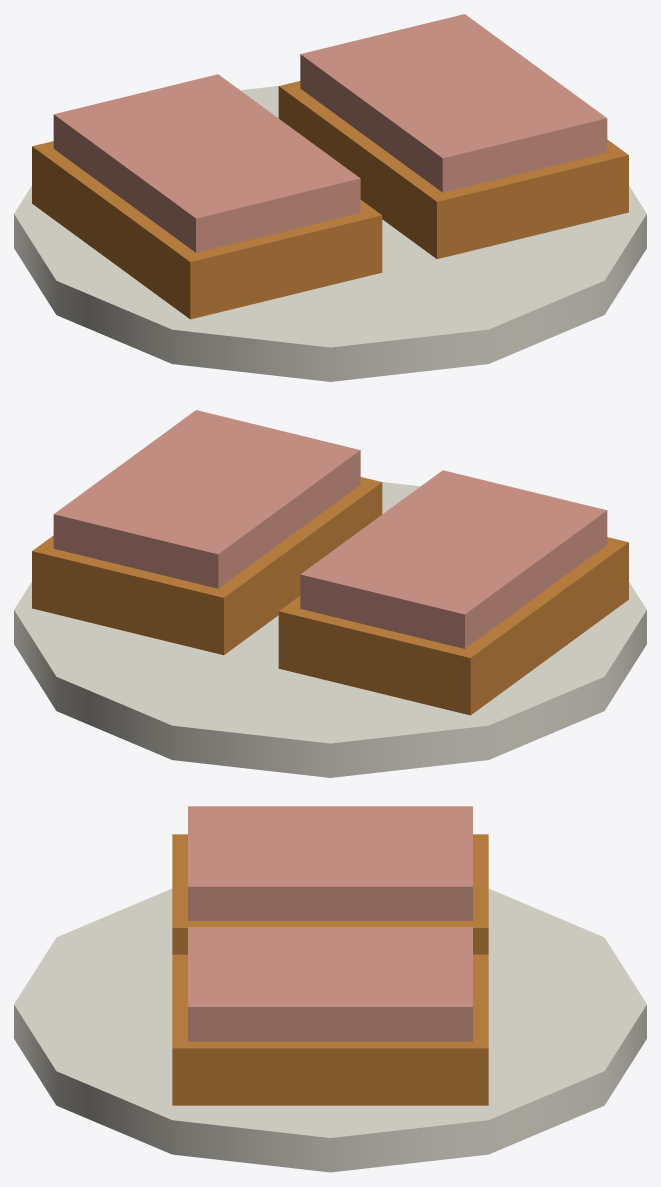
The model's file is good-sandwich.glb.
3 renders of one model, top to bottom at view 1: azimuth 30°, elevation 25°; view 2: azimuth 150°, elevation 25°; view 3: azimuth 270°, elevation 25°, orthographic.
Visible parts, largest first — view 1: #d89a8a_noshadow, #e4e0d4, #c8843c; view 2: #d89a8a_noshadow, #e4e0d4, #c8843c; view 3: #e4e0d4, #d89a8a_noshadow, #c8843c.
Part boxes in pixels (box(x1,y1,x2,y2)): #d89a8a_noshadow: box(53, 14, 607, 252); #e4e0d4: box(14, 86, 646, 381); #c8843c: box(32, 81, 628, 319); #d89a8a_noshadow: box(53, 410, 607, 648); #e4e0d4: box(14, 482, 646, 777); #c8843c: box(32, 477, 628, 715); #e4e0d4: box(14, 888, 646, 1172); #d89a8a_noshadow: box(188, 806, 472, 1041); #c8843c: box(172, 834, 488, 1105).
Bounding box in the file's own units: 0.2 × 0.046 × 0.2.
